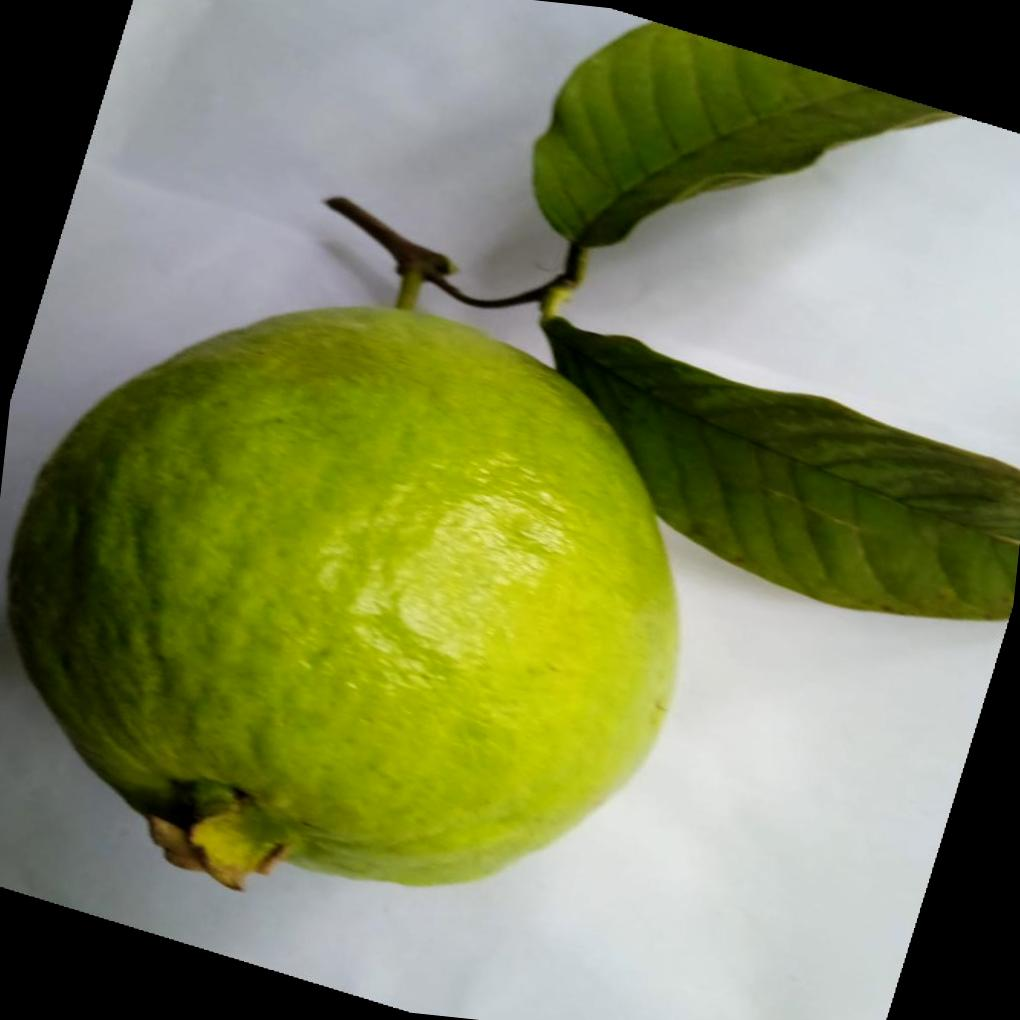FreshGuava: (2, 302, 679, 891)
